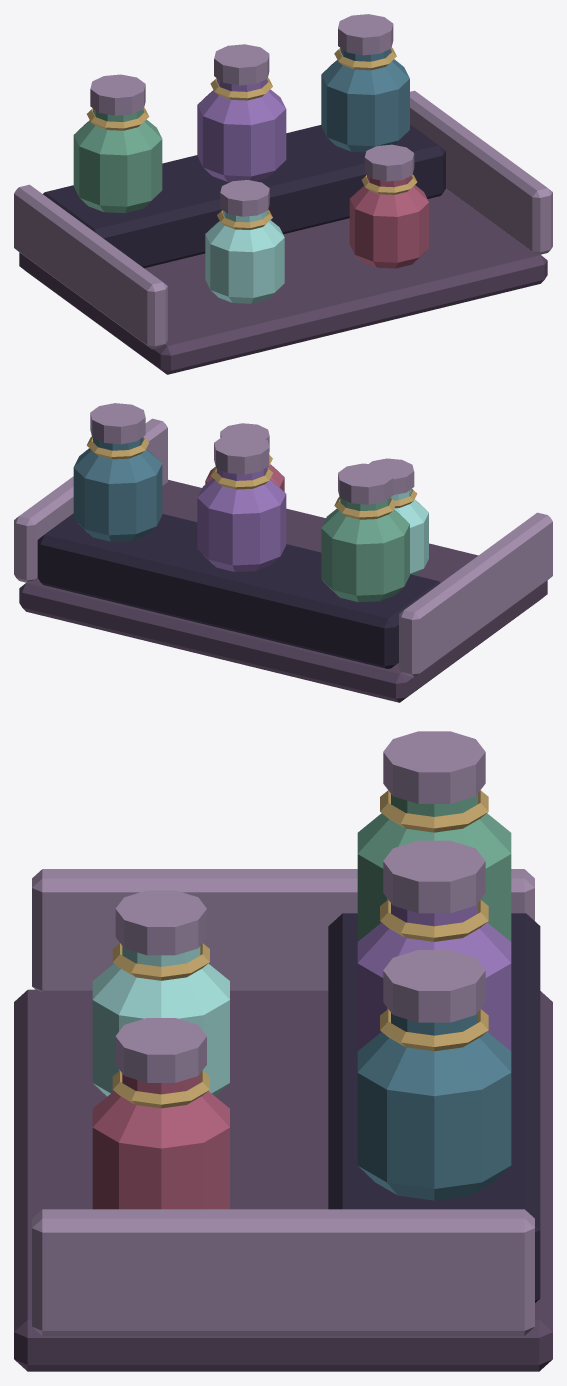
Rendered from 07_Reagent_Caddy.glb.
3 views of the same model, one above another, from view 1: azimuth 30°, elevation 25°; view 2: azimuth 150°, elevation 25°; view 3: azimuth 270°, elevation 25° (orthographic). The views are drawn at different scales.
Visible parts, largest first — view 1: 07_Reagent_Caddy__Body; view 2: 07_Reagent_Caddy__Body; view 3: 07_Reagent_Caddy__Body.
Boxes of the visible parts, x1,y1,x2,y2 form: 07_Reagent_Caddy__Body: (14,14,552,374); 07_Reagent_Caddy__Body: (14,403,552,702); 07_Reagent_Caddy__Body: (14,731,552,1371).
Bounding box in the file's own units: 2.36 × 1.06 × 1.5.
Materials: 1 (1 with a texture image).
